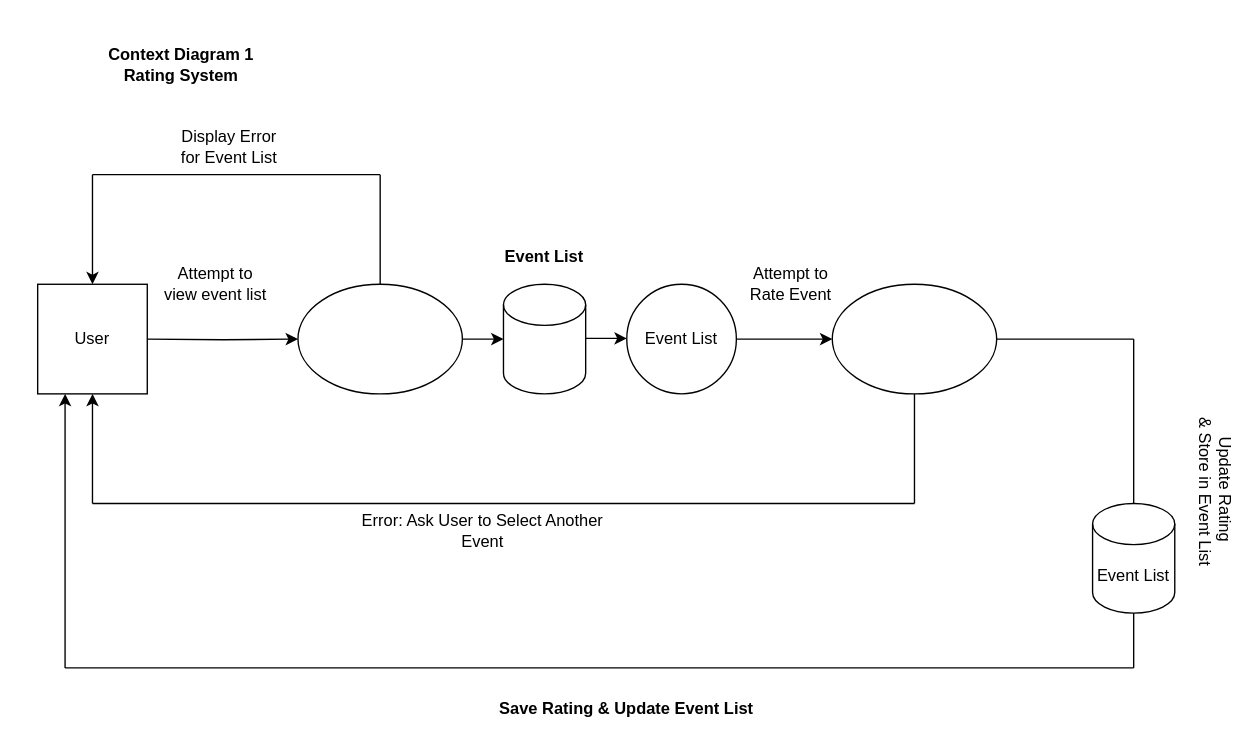
Some shapes in this 1259 by 745 pixel diagram are drawn without their labels. The centre of each missing label's shape, as x and y in pixels:
View Event: (914,338)
View Event List: (379,338)
